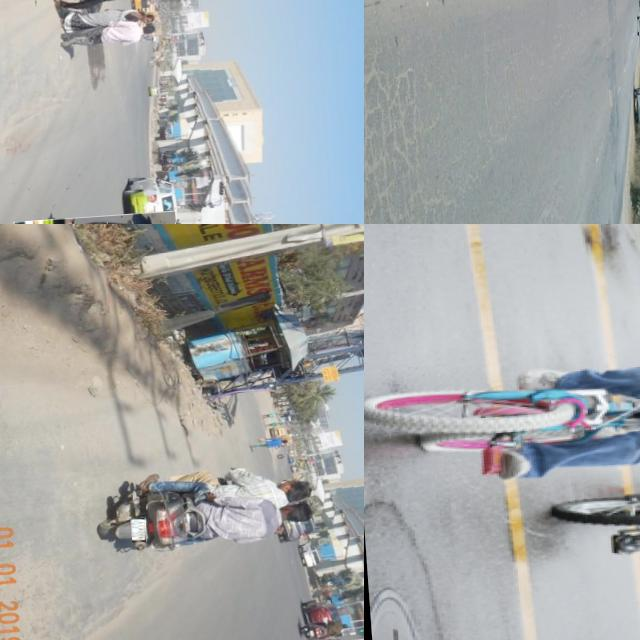plate: (129, 518, 146, 542)
